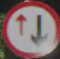Two way: (8, 5, 50, 50)
